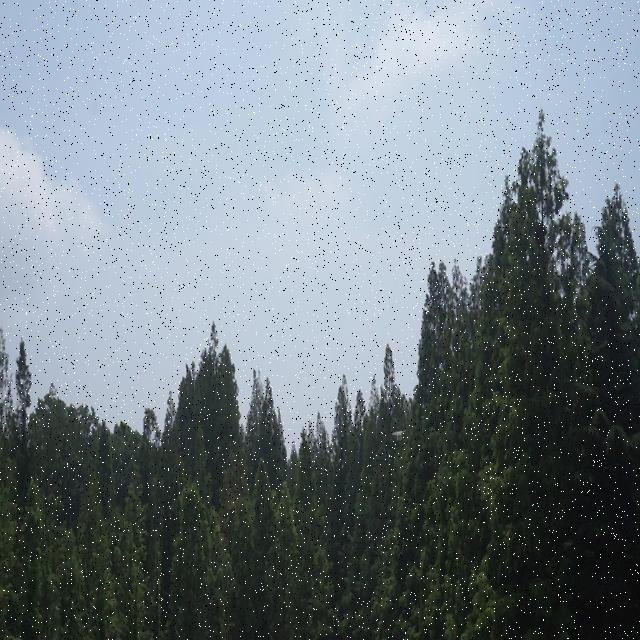UAV: (392, 430, 406, 440)
